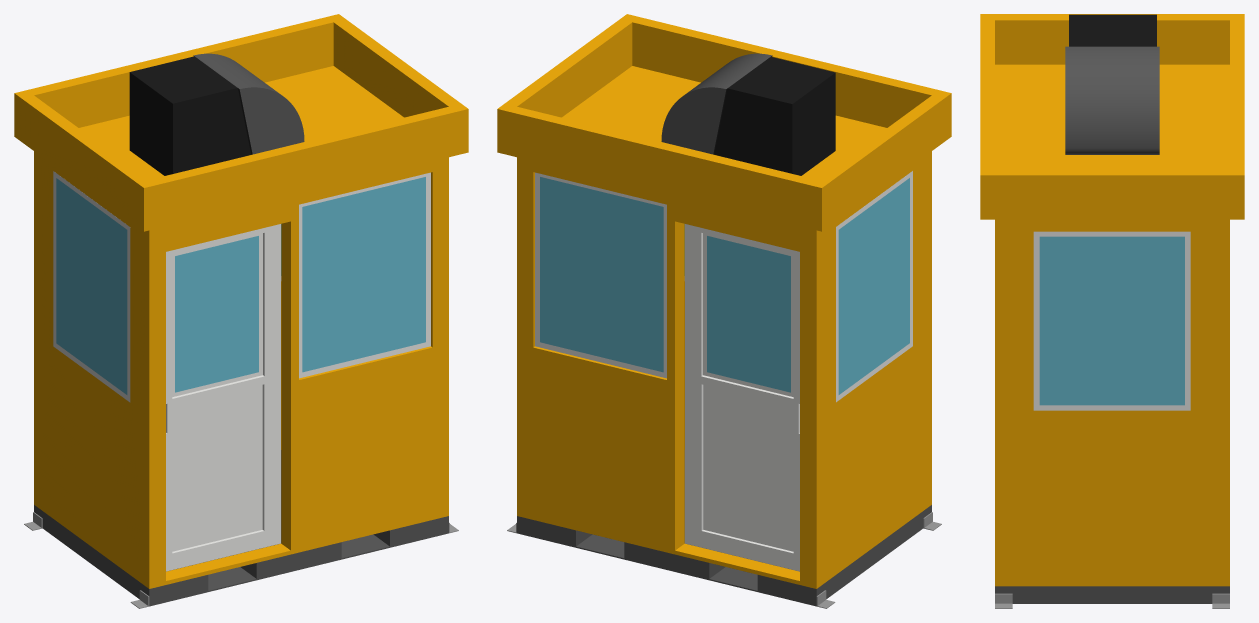
File: 01-rizon-pegasus-gb-v4.fbx
3 views of the same model, side by side, from view 1: azimuth 30°, elevation 25°; view 2: azimuth 150°, elevation 25°; view 3: azimuth 270°, elevation 25° (orthographic).
Parts seen in each view (by area): view 1: Main Station (2) (1) (1), OVerhang, Door Frame (1), Big Window 1 (1), Body22, Big Window 1 (1) (1) (1), Door Window 1 (1), Main Station (2), Big Window Frame 1 (1), Big Window Frame 1 (1) (1) (1); view 2: Main Station (2) (1) (1), OVerhang, Door Frame, Big Window 1, Body22, Big Window 1 (1) (1) (1), Door Window 1, Main Station (2), Big Window Frame 1, Big Window Frame 1 (1) (1) (1); view 3: Main Station (2) (1) (1), OVerhang, Big Window 1 (1) (1), Body22, Big Window Frame 1 (1) (1), Main Station (2).
Part boxes in pixels (x1,y1,x2,y2): Main Station (2) (1) (1): (34, 66, 448, 588); OVerhang: (14, 14, 468, 231); Door Frame (1): (166, 224, 280, 571); Big Window 1 (1): (302, 177, 425, 372); Body22: (129, 53, 304, 175); Big Window 1 (1) (1) (1): (56, 178, 127, 394); Door Window 1 (1): (175, 236, 258, 392); Main Station (2): (34, 505, 448, 606); Big Window Frame 1 (1): (299, 172, 430, 378); Big Window Frame 1 (1) (1) (1): (53, 171, 130, 402); Main Station (2) (1) (1): (517, 66, 931, 588); OVerhang: (497, 14, 951, 231); Door Frame: (685, 224, 799, 571); Big Window 1: (540, 177, 663, 372); Body22: (661, 53, 835, 175); Big Window 1 (1) (1) (1): (838, 178, 909, 394); Door Window 1: (707, 236, 790, 392); Main Station (2): (517, 505, 931, 606); Big Window Frame 1: (535, 172, 666, 378); Big Window Frame 1 (1) (1) (1): (836, 171, 912, 402); Main Station (2) (1) (1): (995, 64, 1229, 586); OVerhang: (980, 14, 1244, 219); Big Window 1 (1) (1): (1039, 236, 1184, 405); Body22: (1065, 14, 1159, 154); Big Window Frame 1 (1) (1): (1033, 231, 1190, 410); Main Station (2): (995, 586, 1229, 603).
Bounding box in the file's own units: 6.5 × 8.83 × 4.5.
